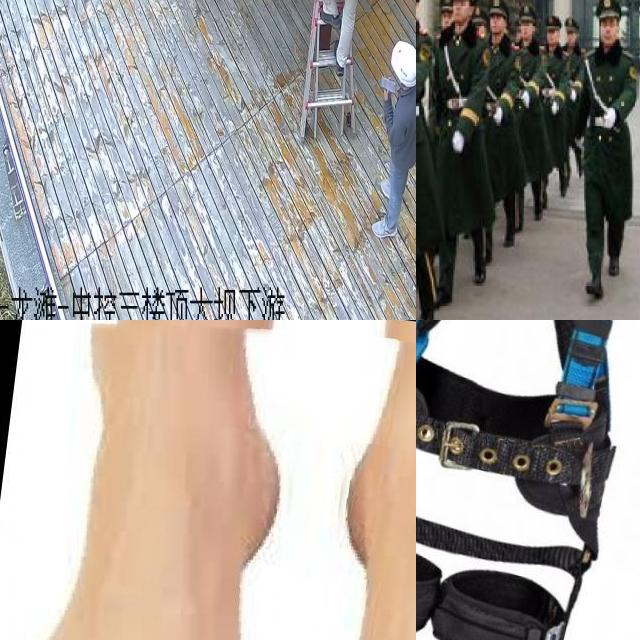Barefoots: (43, 363, 316, 640)
Harness: (416, 320, 616, 640)
face_nomask: (601, 16, 626, 43), (452, 0, 473, 25), (490, 14, 504, 36), (521, 19, 533, 43), (548, 29, 560, 46)
hand_glove: (449, 130, 464, 150), (603, 108, 615, 128), (493, 106, 502, 124), (521, 90, 530, 104), (550, 99, 558, 114), (570, 88, 576, 104)
person: (567, 0, 640, 295), (430, 0, 487, 282), (479, 0, 521, 262), (416, 0, 441, 320), (511, 0, 542, 229), (536, 11, 566, 199)
shoes: (579, 270, 612, 302), (601, 248, 624, 280), (416, 296, 438, 320)
